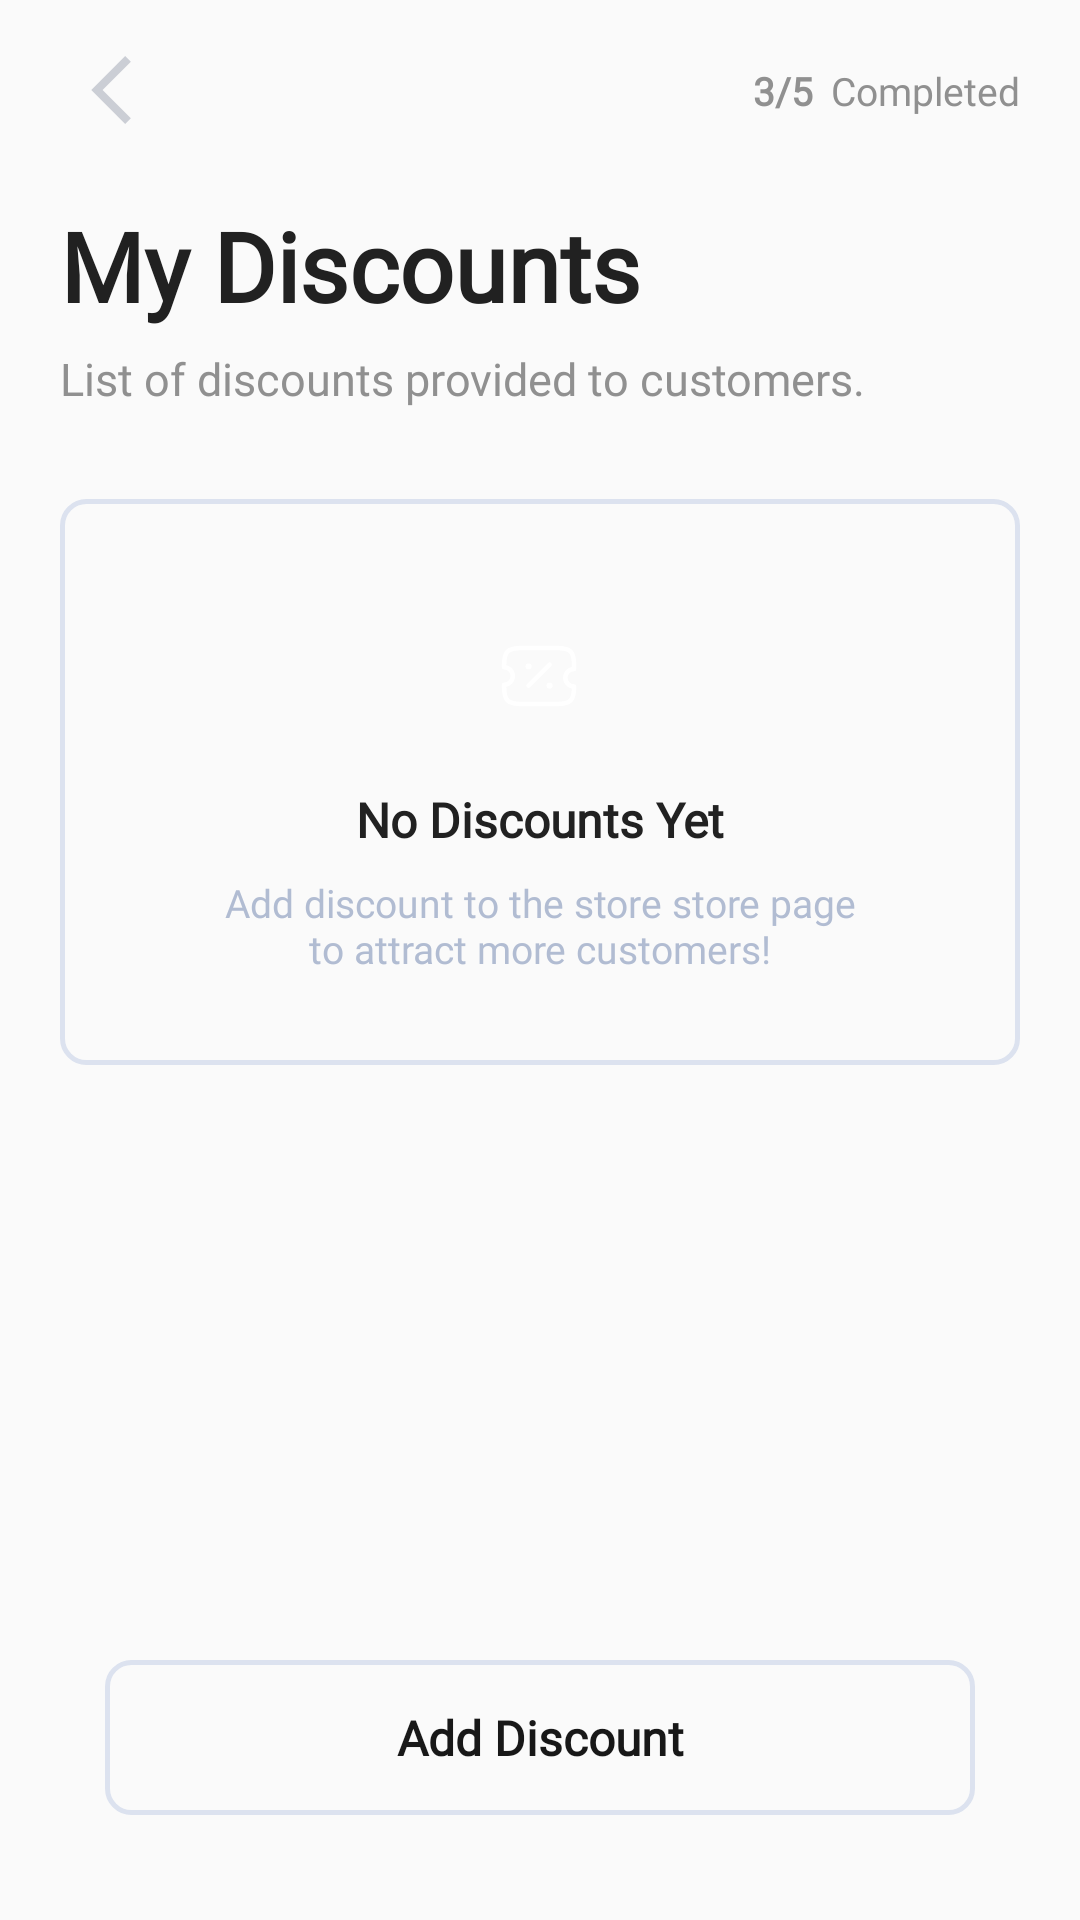

Named icons in this screenshot (1080px×1920px) and their bounding boxes, (x1, y1, x2, y2):
back: (92, 56, 131, 124)
